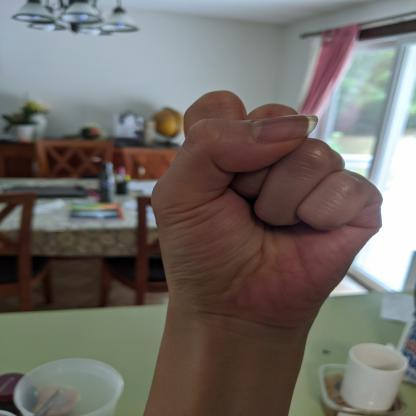S: (142, 87, 390, 333)
